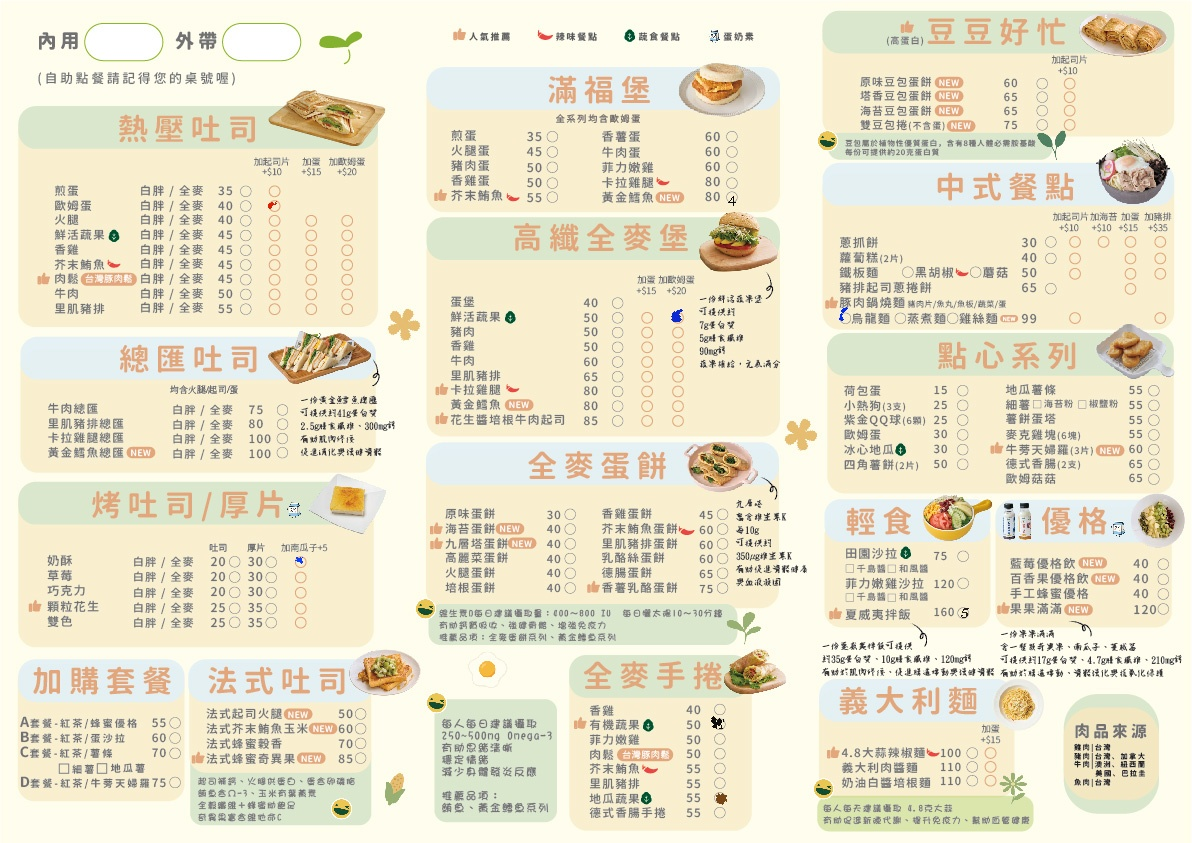marked_circle: (295, 557, 305, 568), (714, 792, 724, 803)
marked_number_4: (726, 191, 736, 202)
marked_number_5: (958, 607, 968, 618)
marked_tick: (268, 199, 278, 210), (839, 311, 849, 322)
marked_x: (672, 312, 682, 323), (714, 719, 724, 730)
